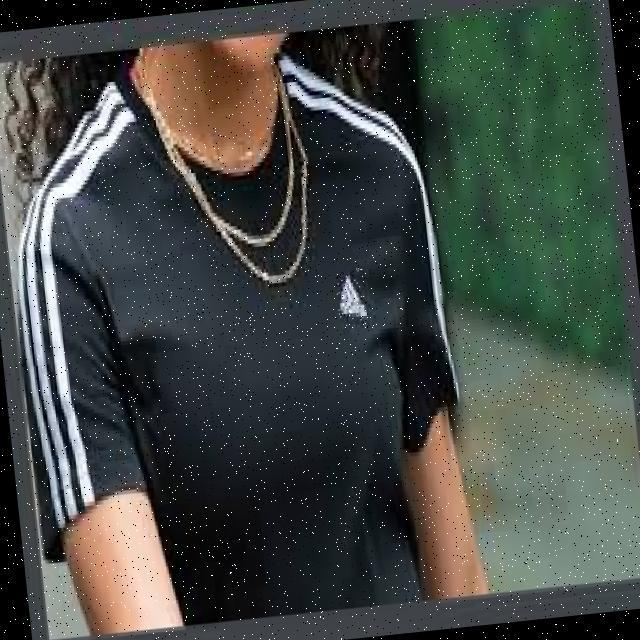Adidas: (334, 267, 370, 326)
